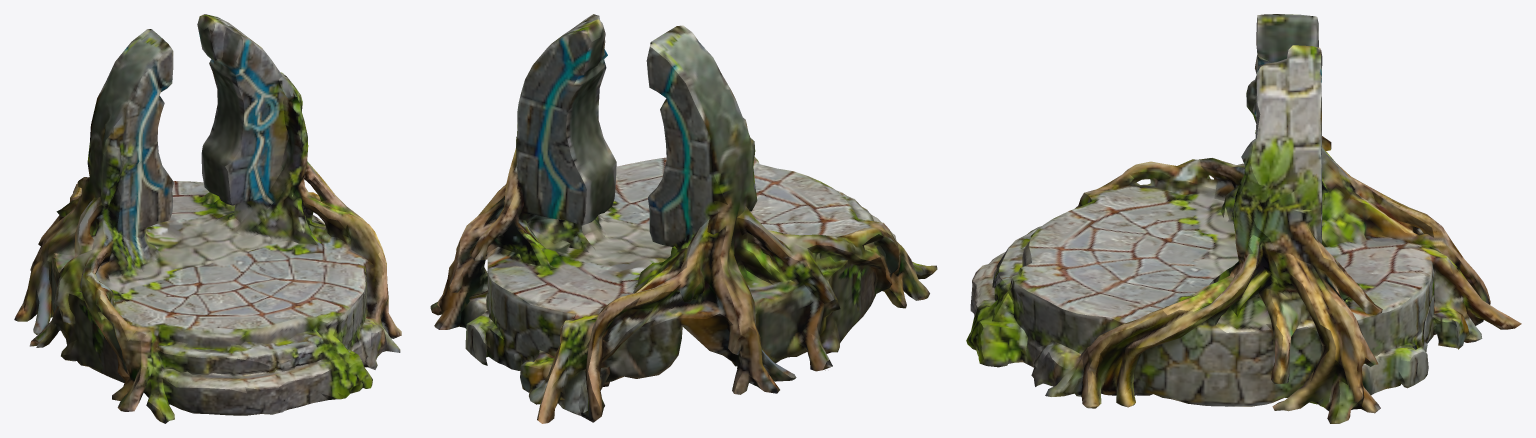
File: F3D_24_BossDais.fbx
3 renders of one model, left to right at view 1: azimuth 30°, elevation 25°; view 2: azimuth 150°, elevation 25°; view 3: azimuth 270°, elevation 25°, orthographic. The views are drawn at different scales.
Visible parts, largest first — view 1: F3D_24_BossDais; view 2: F3D_24_BossDais; view 3: F3D_24_BossDais.
Part boxes in pixels (bbox=[...]): F3D_24_BossDais: bbox=[14, 14, 401, 423]; F3D_24_BossDais: bbox=[430, 14, 937, 423]; F3D_24_BossDais: bbox=[966, 14, 1521, 423].
Size of the model in its own units: 1.22 by 1 by 1.59.
